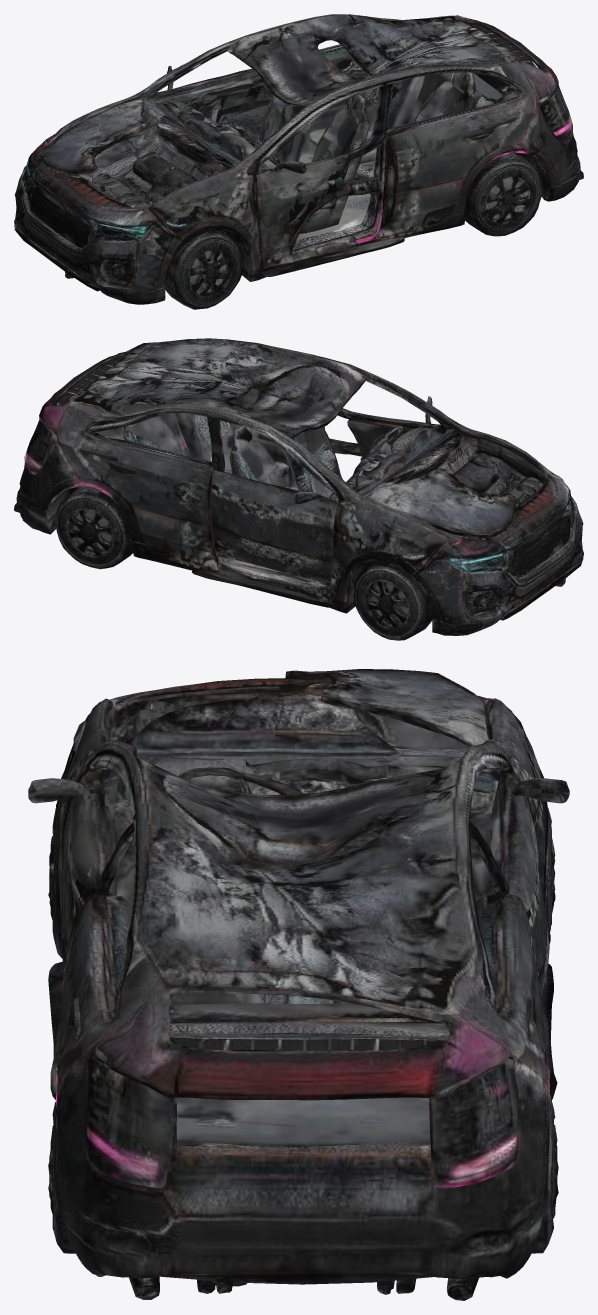
Rendered from destroyed-cyber-car.glb.
3 views of the same model, one above another, from view 1: azimuth 30°, elevation 25°; view 2: azimuth 150°, elevation 25°; view 3: azimuth 270°, elevation 25° (orthographic). The views are drawn at different scales.
Parts seen in each view (by area): view 1: Mesh_0; view 2: Mesh_0; view 3: Mesh_0.
Boxes of the visible parts, x1,y1,x2,y2 form: Mesh_0: (14, 14, 583, 309); Mesh_0: (14, 338, 583, 640); Mesh_0: (28, 669, 569, 1300).
Size of the model in its own units: 4.52 by 1.5 by 2.16.
1 material, 1 textured.
